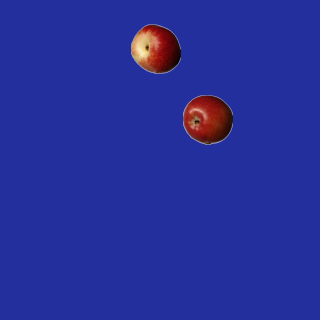Apple Braeburn: (182, 94, 232, 144)
Nectarine: (130, 23, 180, 73)
